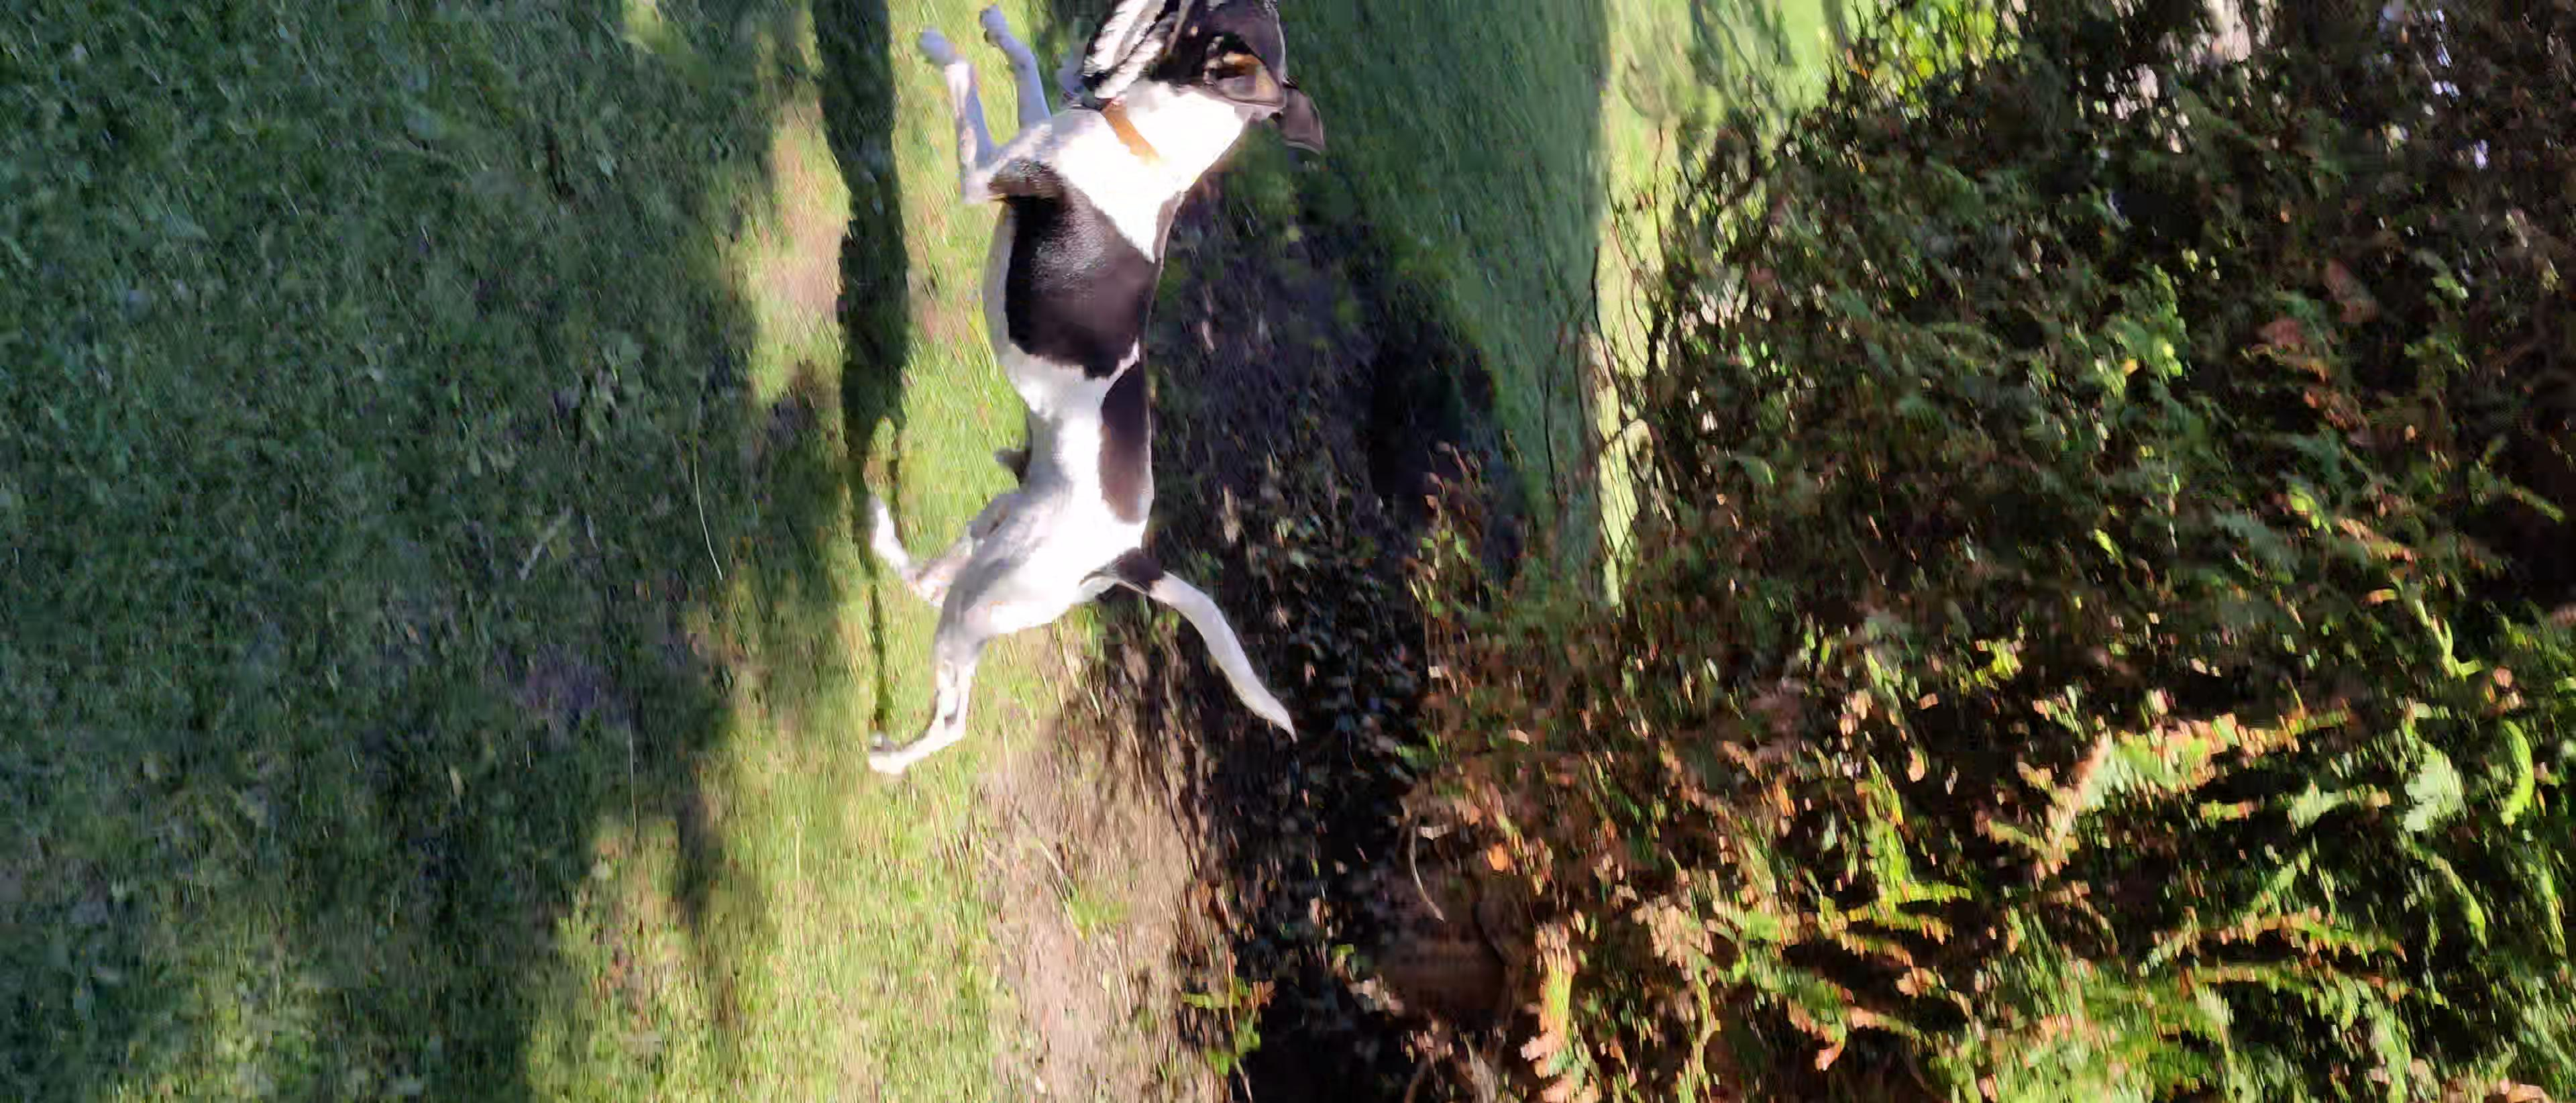Dog: (859, 0, 1331, 782)
